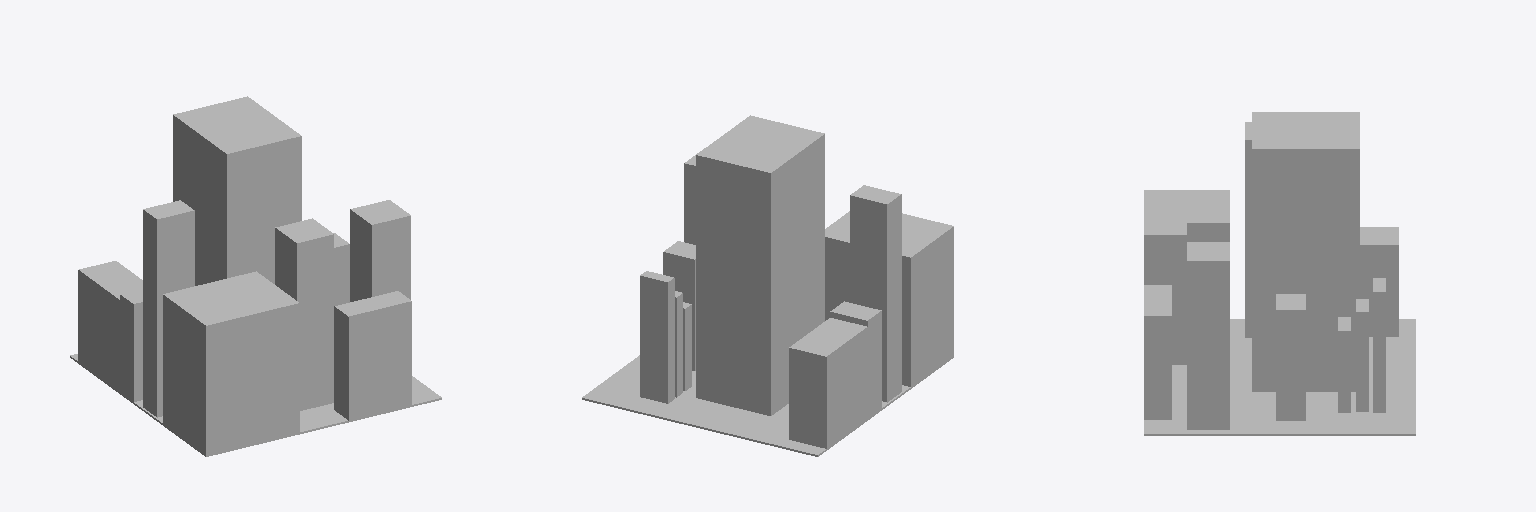
File: skyline buildings.obj
3 views of the same model, side by side, from view 1: azimuth 30°, elevation 25°; view 2: azimuth 150°, elevation 25°; view 3: azimuth 270°, elevation 25° (orthographic).
Visible parts, largest first — view 1: object 1; view 2: object 1; view 3: object 1.
Part boxes in pixels (bbox=[...]): object 1: bbox=[70, 96, 441, 456]; object 1: bbox=[582, 115, 953, 456]; object 1: bbox=[1144, 112, 1415, 435].
Size of the model in its own units: 12.6 by 12.5 by 12.6.